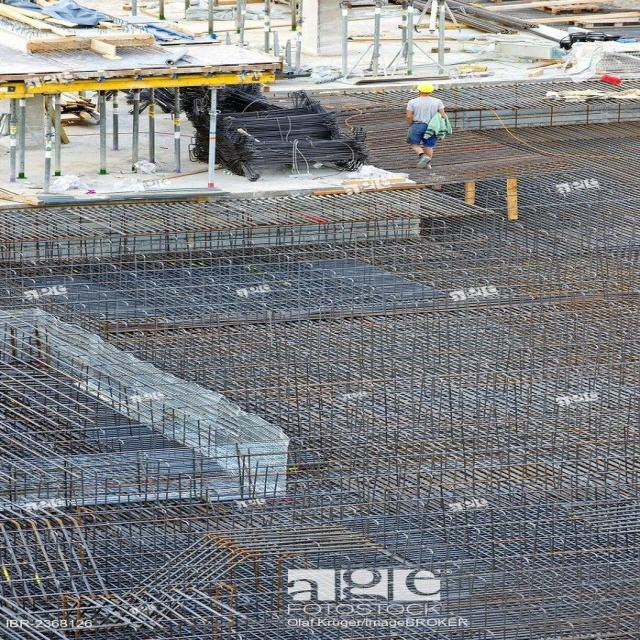person: (401, 74, 452, 171)
